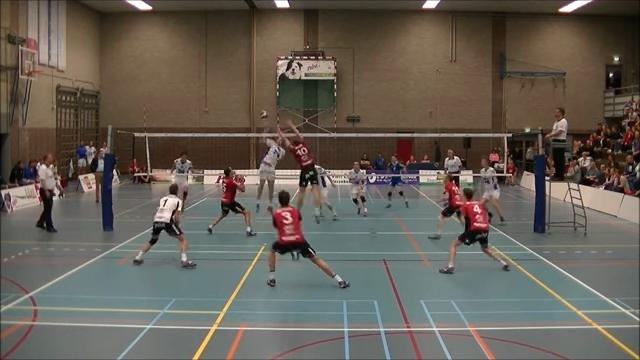Attack: (247, 110, 288, 215)
Block: (274, 112, 325, 230)
Player: (267, 191, 349, 287), (439, 188, 509, 273), (133, 184, 195, 267), (207, 167, 255, 235), (428, 174, 462, 239), (481, 159, 505, 224), (171, 151, 192, 211), (315, 165, 337, 219), (386, 155, 408, 207), (348, 162, 367, 216)
ball: (258, 110, 267, 120)
